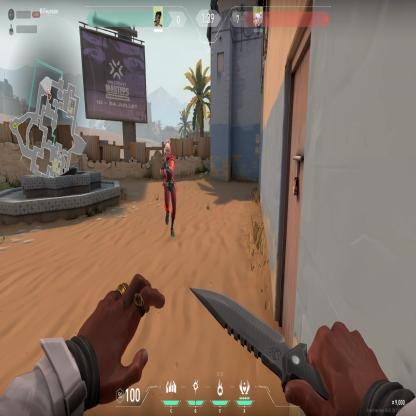enemy: (161, 140, 177, 238)
